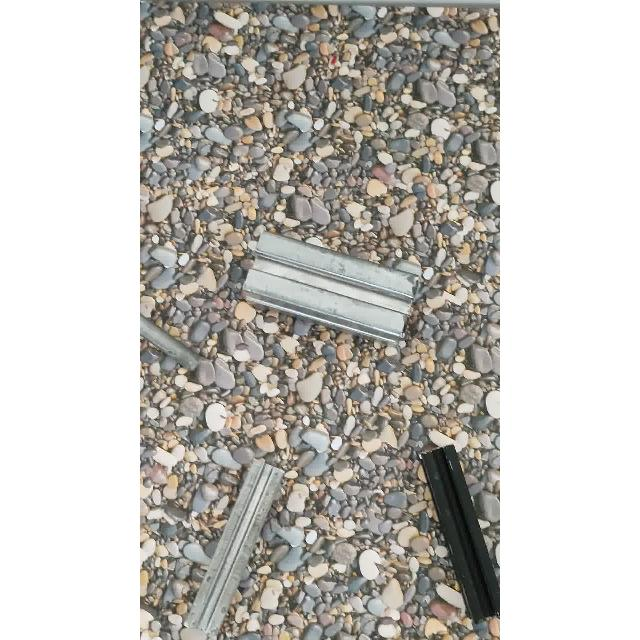F20_20_B: (416, 440, 499, 624)
F20_20_G: (180, 455, 290, 635)
S40_40_G: (240, 230, 420, 348)
